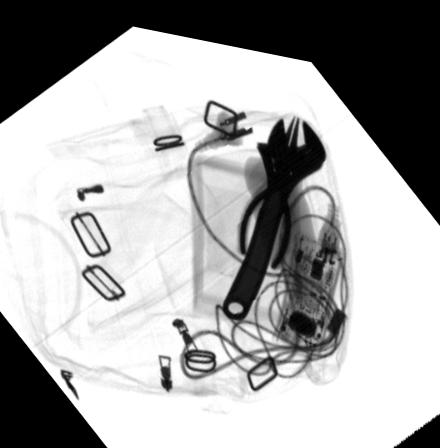Pliers: (235, 98, 304, 259)
Wrench: (222, 105, 326, 310)
